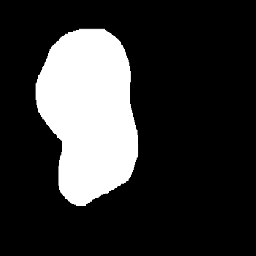mass: (38, 58, 135, 198)
